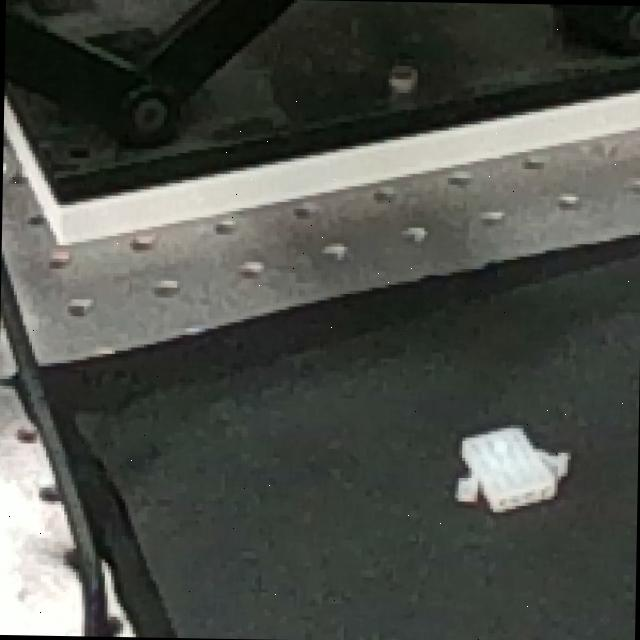pick: (436, 396, 590, 532), (608, 618, 634, 640)
